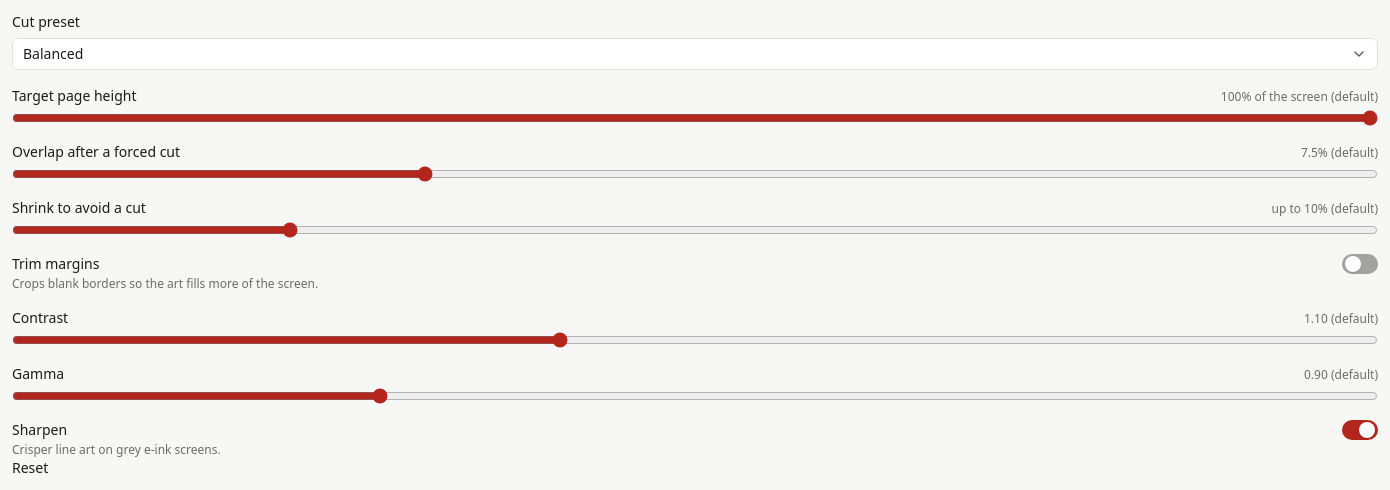
Test: SmartCutForm › reports each tweak as a preset field
This screenshot has width=1390, height=490.
Later steps or results of the test are not shown.
Set the slider labelled "Target page height" to "0.7" at (560, 118), box [12, 110, 1378, 126]
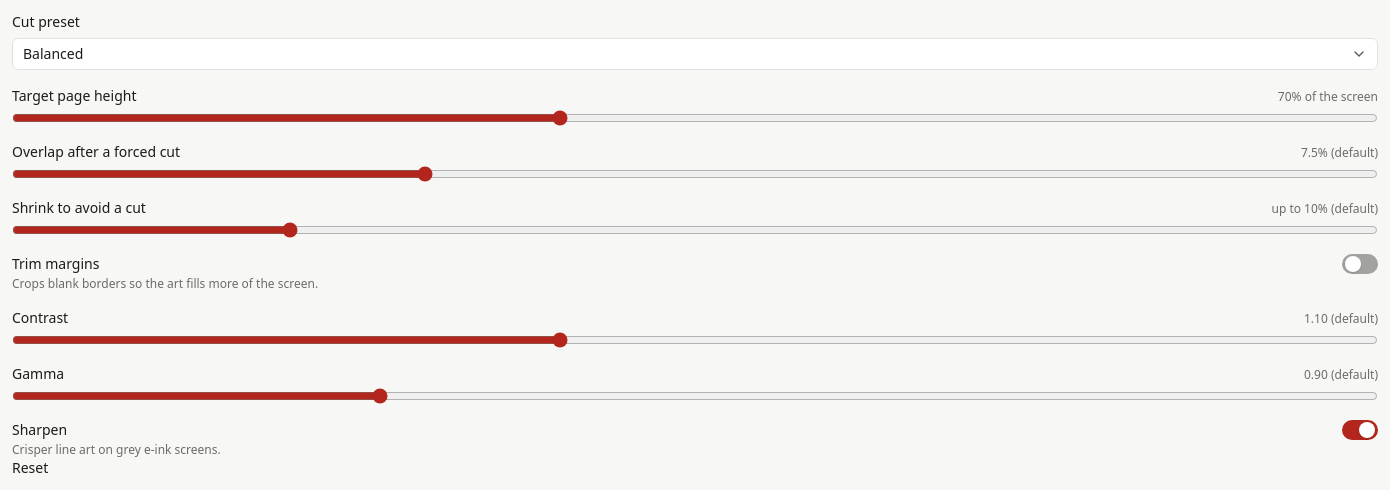
Result: the text "70% of the screen" is shown at [1278, 89, 1378, 105]
